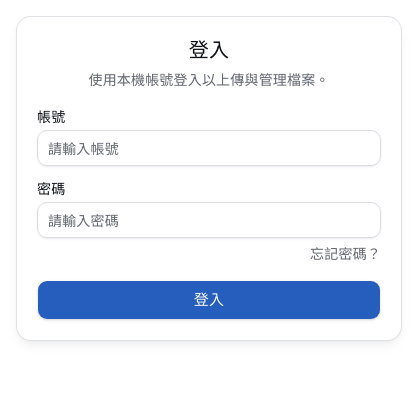
LoginPage › shows an error message when login fails
Type "alice" into the field labelled "帳號" at (209, 148), box [37,130,381,166]
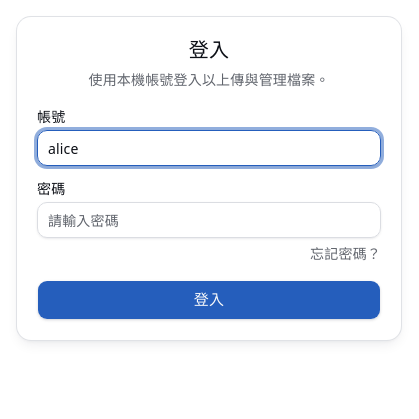
Type "wrong-pw" into the password field labelled "密碼" at (209, 220), box [37,202,381,238]
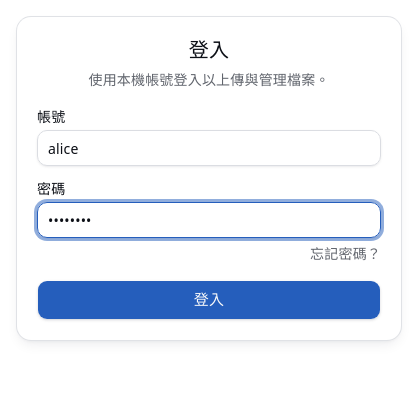
Click the button "登入" at (209, 300), box [37,280,381,320]
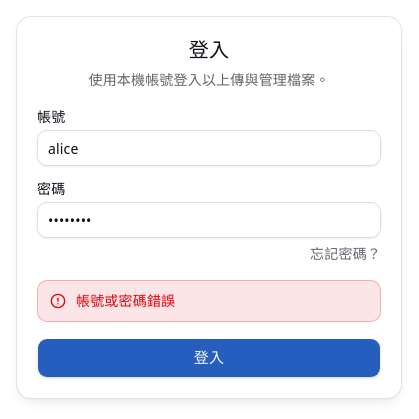
Expected: the text "帳號或密碼錯誤" is shown, [76,291,175,311]
